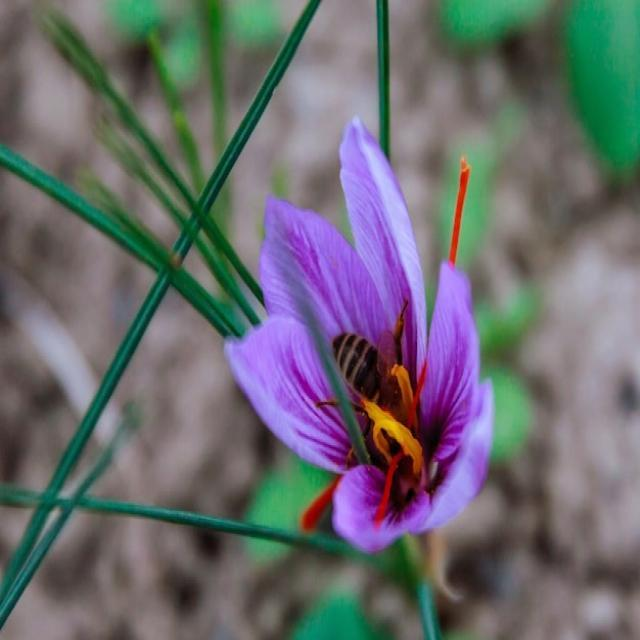Flower: (226, 121, 501, 546)
stigma: (440, 142, 474, 262), (371, 452, 402, 524)
